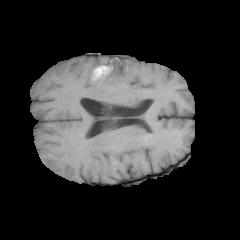glioma: (90, 58, 156, 100)
